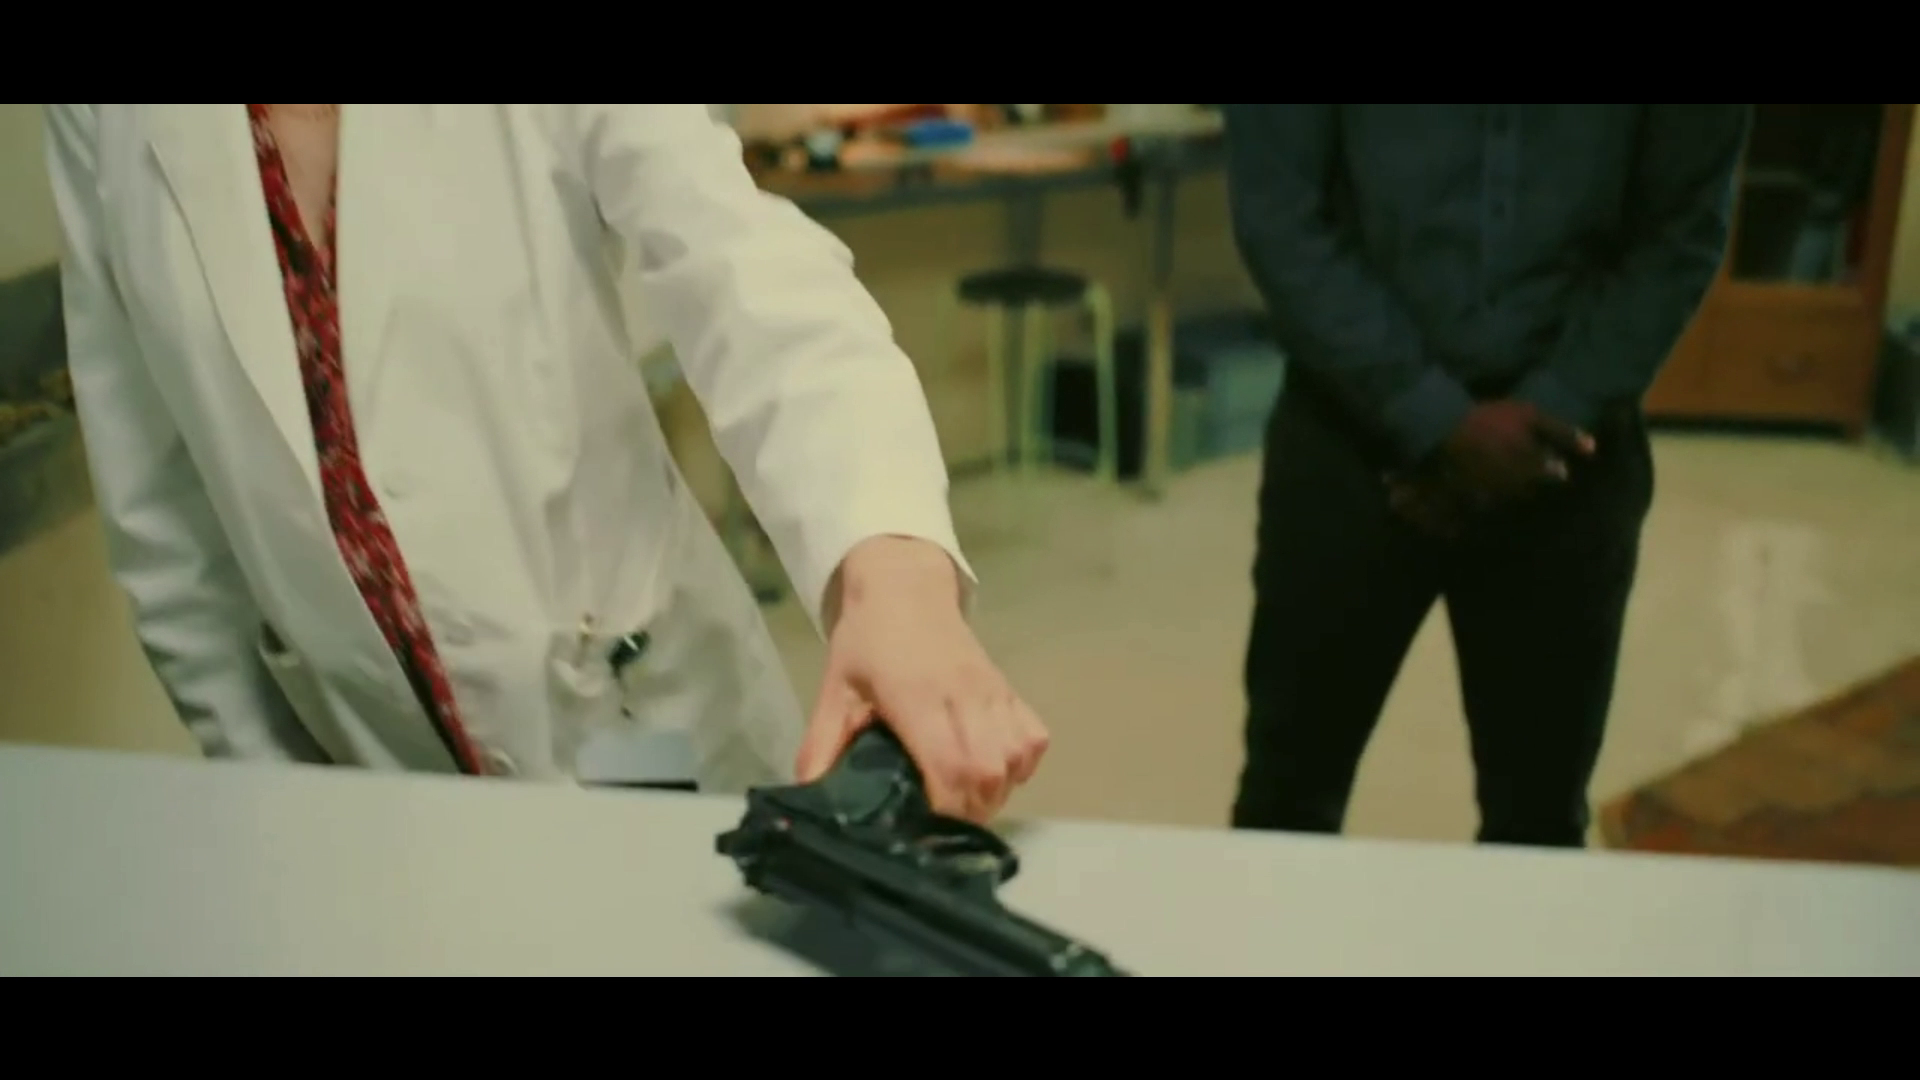SIG P226: (718, 734, 1136, 974)
